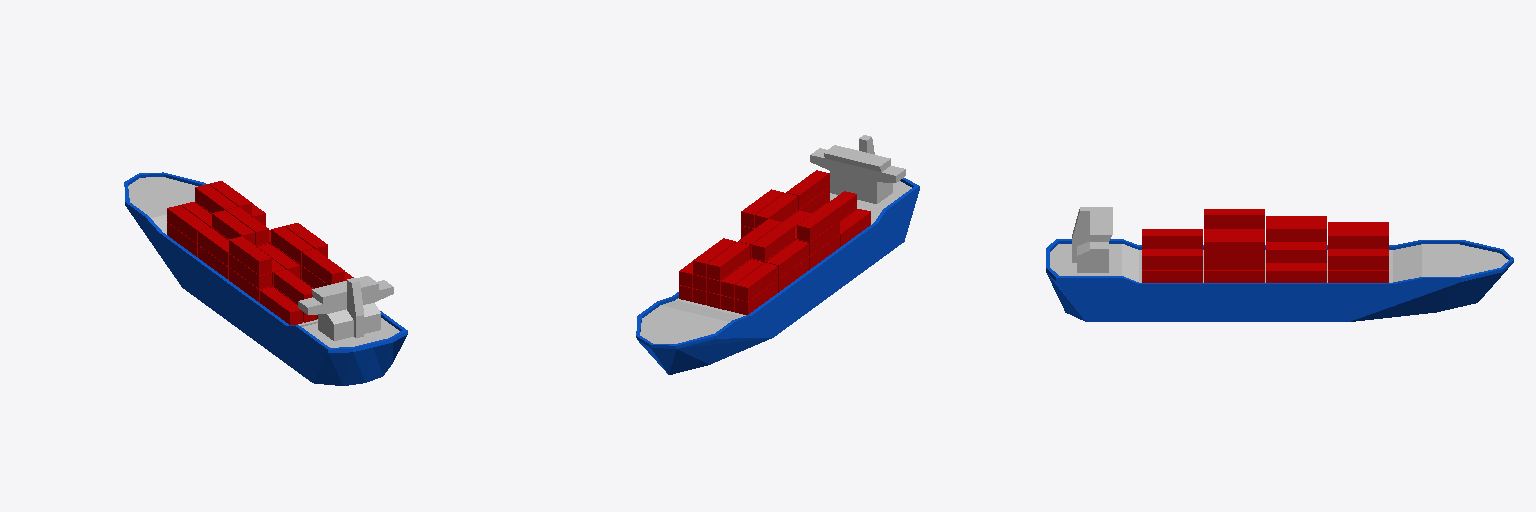
The model's file is container_ship.obj.
3 views of the same model, side by side, from view 1: azimuth 30°, elevation 25°; view 2: azimuth 150°, elevation 25°; view 3: azimuth 270°, elevation 25° (orthographic).
Size of the model in its own units: 2.17 by 2.26 by 10.21.